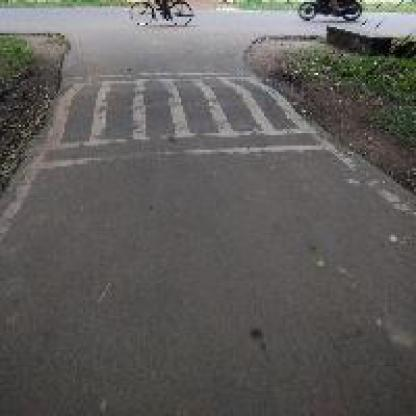Speed Bump: (42, 66, 314, 166)
